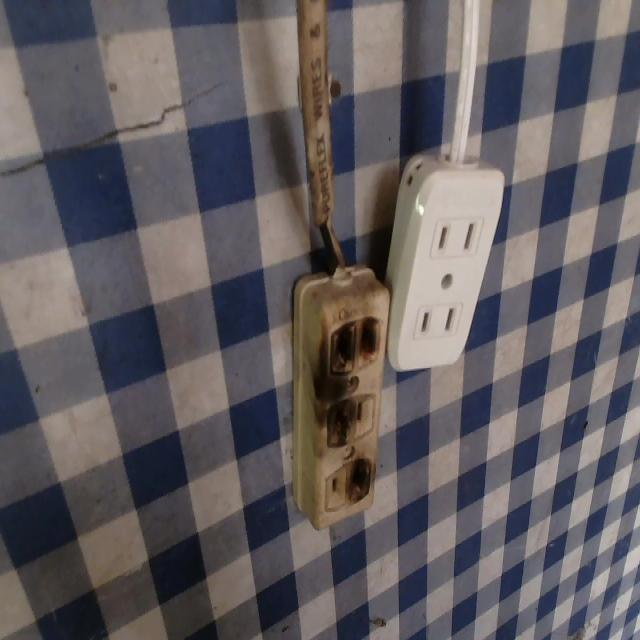-: (321, 304, 388, 380), (345, 448, 379, 513), (322, 393, 362, 448)
